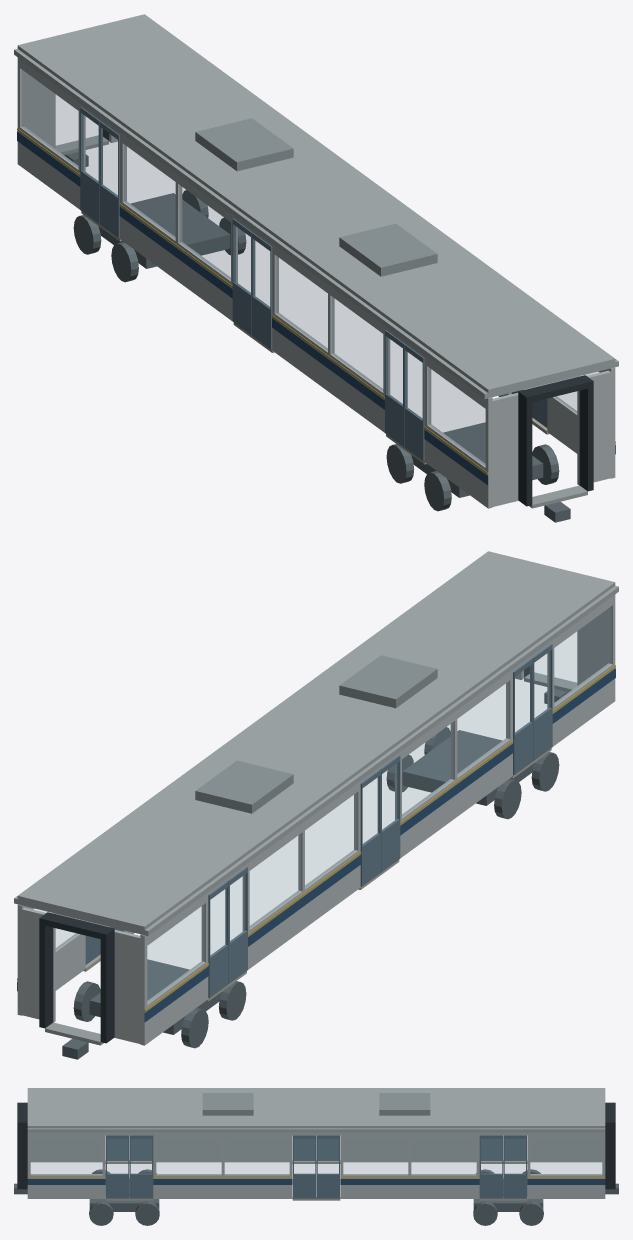
File: expo-metro-middle-exterior.lod0.glb
3 renders of one model, top to bottom at view 1: azimuth 30°, elevation 25°; view 2: azimuth 150°, elevation 25°; view 3: azimuth 270°, elevation 25°, orthographic. The views are drawn at different scales.
Parts seen in each view (by area): view 1: body-shell, glass, bogie-rear-frame, door-right-front-b, door-right-rear-b, door-right-center-b, door-right-center-a, door-right-rear-a, door-right-front-a, bogie-front-frame, wheel-front-front-right, wheel-rear-front-right (+3 smaller); view 2: body-shell, glass, bogie-front-frame, door-right-rear-a, door-right-front-a, door-right-center-a, door-right-center-b, door-right-front-b, door-right-rear-b, bogie-rear-frame, wheel-rear-rear-right, wheel-front-rear-right (+3 smaller); view 3: body-shell, glass, door-left-front-a, door-left-rear-b, door-left-center-a, door-left-center-b, door-left-front-b, door-left-rear-a, bogie-front-frame, bogie-rear-frame, door-right-center-a, door-right-center-b (+8 smaller).
Boxes of the visible parts, <box> form: body-shell: <box>14,14,618,522</box>; glass: <box>22,70,598,465</box>; bogie-rear-frame: <box>98,193,230,268</box>; door-right-front-b: <box>404,344,424,461</box>; door-right-rear-b: <box>99,121,119,237</box>; door-right-center-b: <box>252,232,272,349</box>; door-right-center-a: <box>232,218,252,335</box>; door-right-rear-a: <box>80,107,100,223</box>; door-right-front-a: <box>385,330,404,446</box>; bogie-front-frame: <box>411,422,543,497</box>; wheel-front-front-right: <box>424,471,451,511</box>; wheel-rear-front-right: <box>111,242,138,282</box>; body-shell: <box>14,551,618,1059</box>; glass: <box>34,607,610,1002</box>; bogie-front-frame: <box>402,730,534,805</box>; door-right-rear-a: <box>208,881,228,998</box>; door-right-front-a: <box>513,658,533,774</box>; door-right-center-a: <box>360,769,380,886</box>; door-right-center-b: <box>380,755,400,872</box>; door-right-front-b: <box>532,644,552,760</box>; door-right-rear-b: <box>228,867,247,983</box>; bogie-rear-frame: <box>89,959,221,1034</box>; wheel-rear-rear-right: <box>181,1008,208,1048</box>; wheel-front-rear-right: <box>494,779,521,819</box>; body-shell: <box>14,1088,618,1200</box>; glass: <box>31,1139,601,1174</box>; door-left-front-a: <box>129,1135,153,1198</box>; door-left-rear-b: <box>479,1135,503,1198</box>; door-left-center-a: <box>316,1135,339,1198</box>; door-left-center-b: <box>293,1135,316,1198</box>; door-left-front-b: <box>106,1135,129,1198</box>; door-left-rear-a: <box>503,1135,526,1198</box>; bogie-front-frame: <box>89,1178,159,1211</box>; bogie-rear-frame: <box>473,1178,543,1211</box>; door-right-center-a: <box>317,1138,338,1160</box>; door-right-center-b: <box>294,1138,315,1160</box>.
Bounding box in the file's own units: 2.8 × 3.48 × 17.8.
